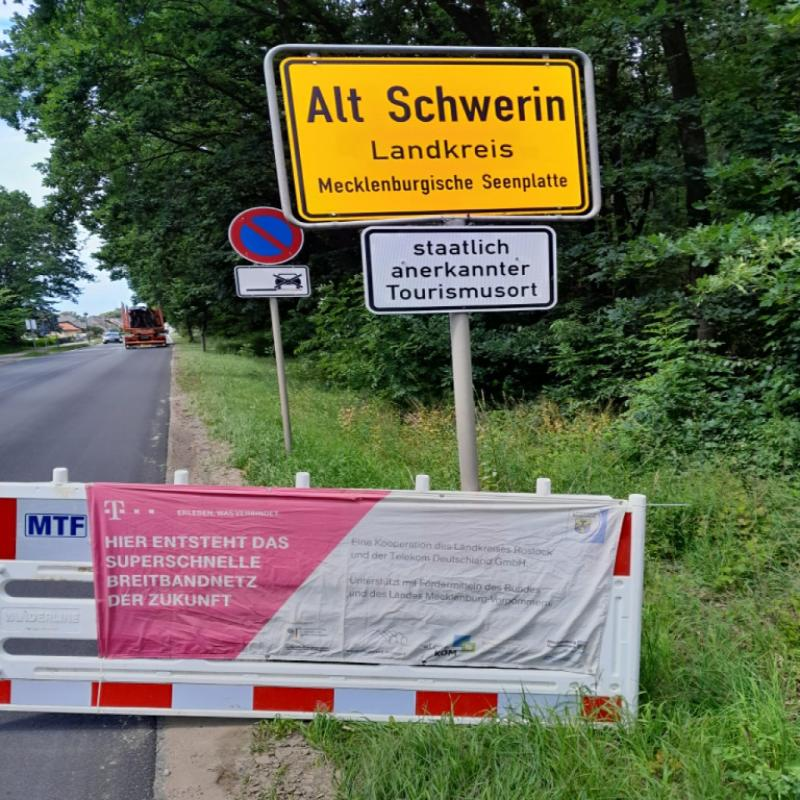Banner: (88, 483, 625, 673)
